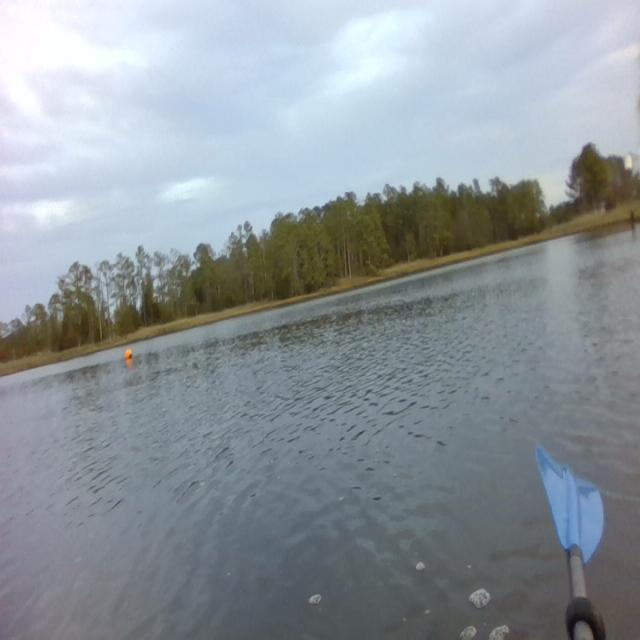Buoy: (124, 346, 134, 363)
